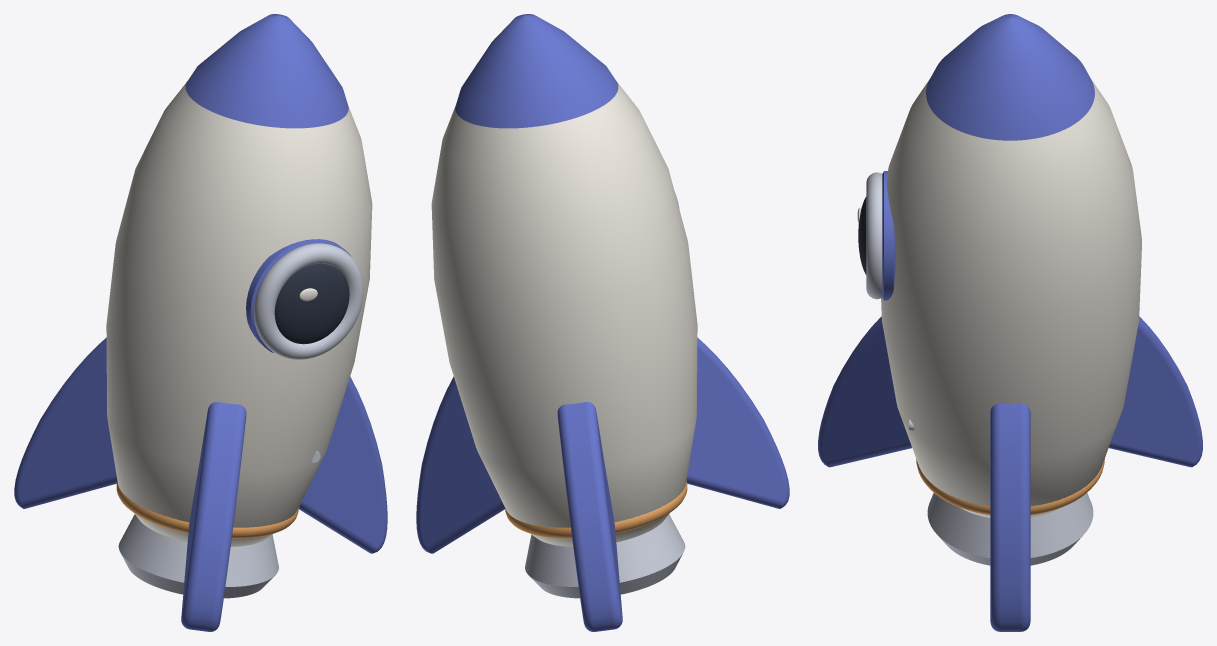
Rendered from rocket.glb.
3 views of the same model, side by side, from view 1: azimuth 30°, elevation 25°; view 2: azimuth 150°, elevation 25°; view 3: azimuth 270°, elevation 25° (orthographic). The views are drawn at different scales.
Visible parts, largest first — view 1: rocket; view 2: rocket; view 3: rocket.
Boxes of the visible parts, bbox=[...] form: rocket: bbox=[14, 14, 387, 631]; rocket: bbox=[416, 14, 789, 631]; rocket: bbox=[818, 14, 1202, 631].
Size of the model in its own units: 1.17 by 2.19 by 1.35.
